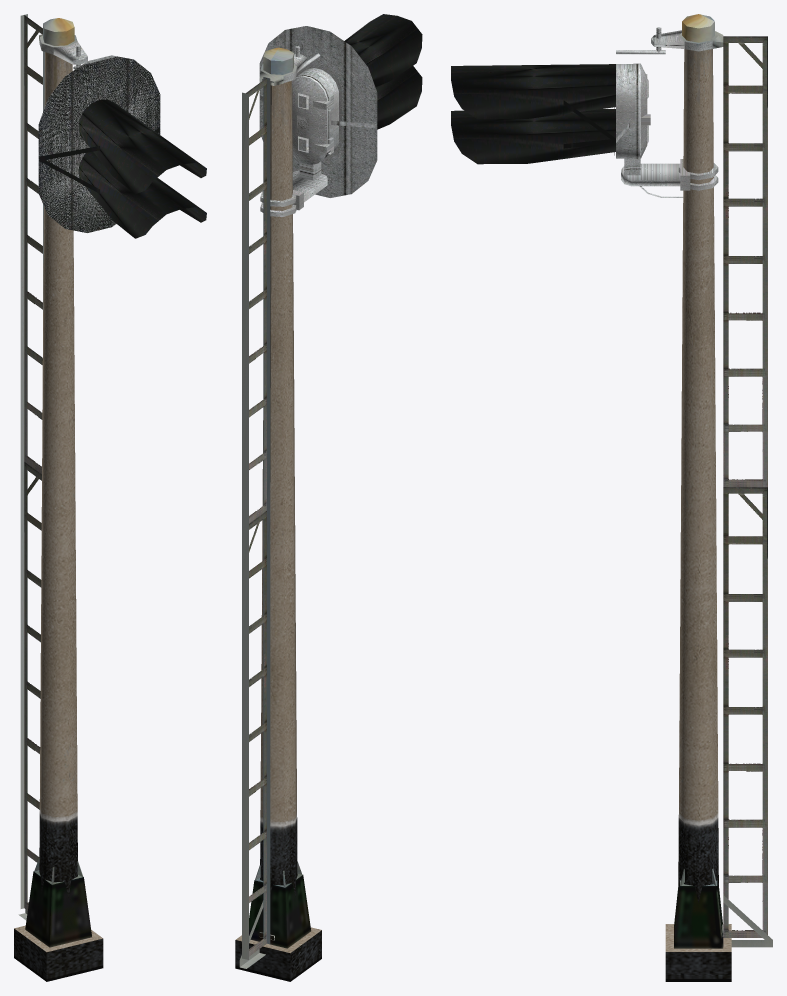
Rendered from distant.obj.
3 views of the same model, side by side, from view 1: azimuth 30°, elevation 25°; view 2: azimuth 150°, elevation 25°; view 3: azimuth 270°, elevation 25° (orthographic). The views are drawn at different scales.
Visible parts, largest first — view 1: Body_0_Footing_concrete, Body_1_Signal, Body_5_Stairway, Body_2_Signal, Body_3_Footing_metal, Body_4_Footing_metal; view 2: Body_0_Footing_concrete, Body_5_Stairway, Body_2_Signal, Body_3_Footing_metal, Body_1_Signal, Body_4_Footing_metal; view 3: Body_0_Footing_concrete, Body_5_Stairway, Body_1_Signal, Body_2_Signal, Body_3_Footing_metal, Body_4_Footing_metal.
Part boxes in pixels (x1=…): Body_0_Footing_concrete: x1=39, y1=52, x2=77, y2=897; Body_1_Signal: x1=38, y1=55, x2=206, y2=238; Body_5_Stairway: x1=18, y1=14, x2=77, y2=920; Body_2_Signal: x1=38, y1=39, x2=160, y2=232; Body_3_Footing_metal: x1=14, y1=871, x2=103, y2=981; Body_4_Footing_metal: x1=34, y1=18, x2=83, y2=884; Body_0_Footing_concrete: x1=260, y1=81, x2=297, y2=896; Body_5_Stairway: x1=239, y1=64, x2=296, y2=968; Body_2_Signal: x1=259, y1=26, x2=377, y2=216; Body_3_Footing_metal: x1=235, y1=875, x2=321, y2=981; Body_1_Signal: x1=344, y1=14, x2=422, y2=129; Body_4_Footing_metal: x1=254, y1=47, x2=302, y2=887; Body_0_Footing_concrete: x1=678, y1=49, x2=718, y2=902; Body_5_Stairway: x1=679, y1=31, x2=772, y2=947; Body_1_Signal: x1=451, y1=64, x2=615, y2=164; Body_2_Signal: x1=616, y1=27, x2=718, y2=197; Body_3_Footing_metal: x1=665, y1=881, x2=731, y2=981; Body_4_Footing_metal: x1=680, y1=14, x2=717, y2=885.
Size of the model in its own units: 0.8583 by 6.38 by 1.95.
8 materials, 8 textured.
